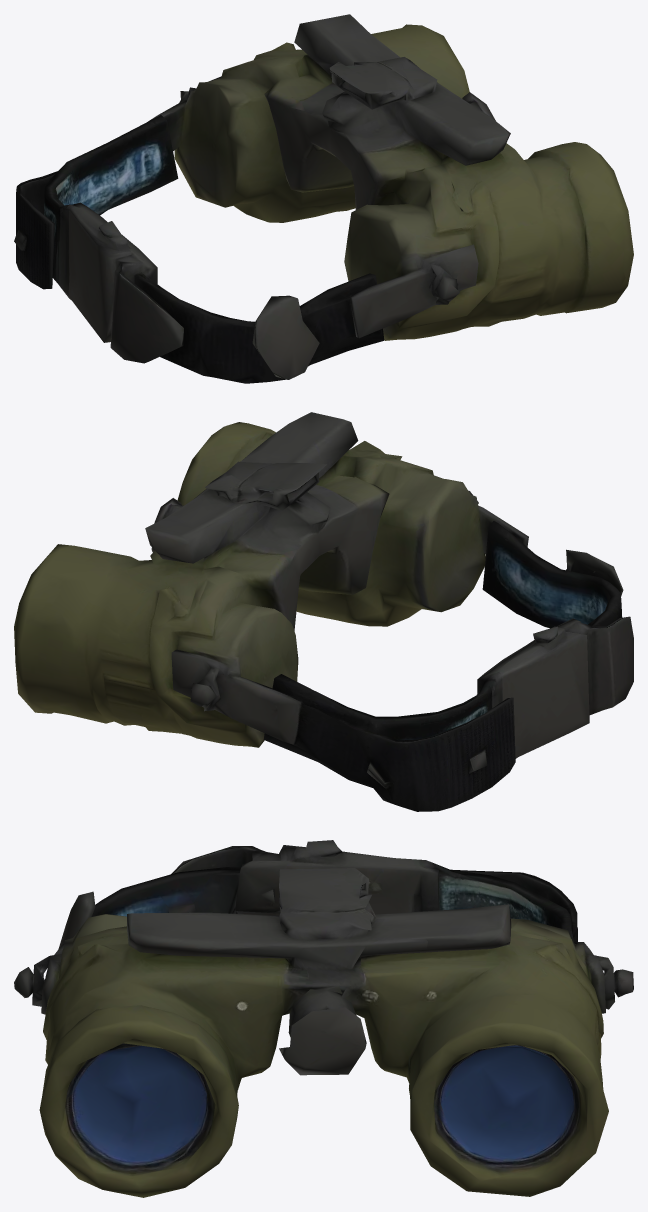
Rendered from night_vision.284208a079.glb.
3 views of the same model, one above another, from view 1: azimuth 30°, elevation 25°; view 2: azimuth 150°, elevation 25°; view 3: azimuth 270°, elevation 25° (orthographic). The views are drawn at different scales.
Parts seen in each view (by area): view 1: night_vision; view 2: night_vision; view 3: night_vision.
Boxes of the visible parts, <box> form: night_vision: <box>14,14,633,383</box>; night_vision: <box>14,412,633,811</box>; night_vision: <box>14,840,633,1197</box>.
Bounding box in the file's own units: 0.1893 × 0.0839 × 0.2.
Materials: 1 (1 with a texture image).
